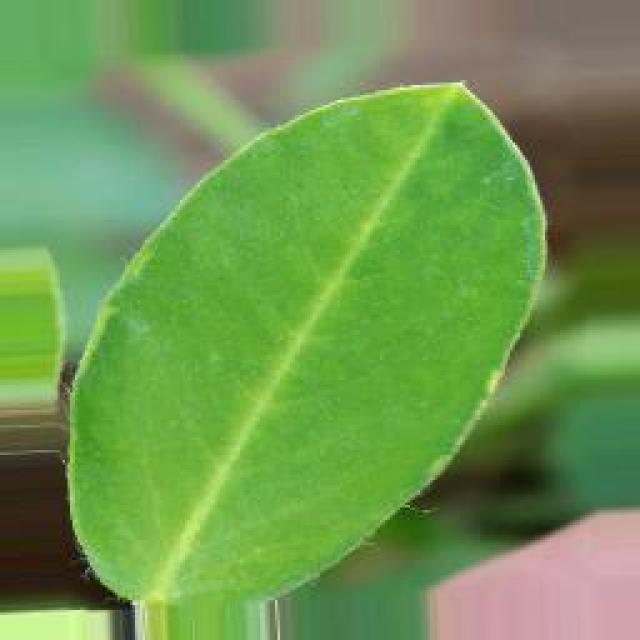Yellow_and_black_sigatoka: (61, 71, 554, 634)
